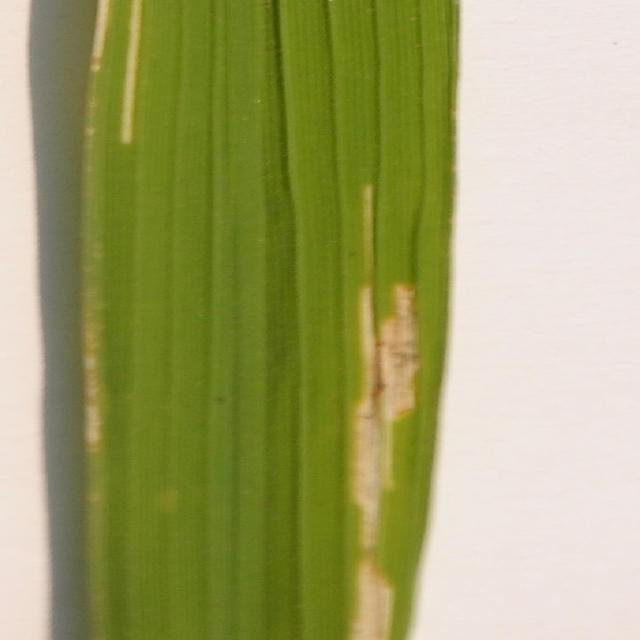Bacterial leaf blight: (333, 236, 436, 640), (79, 0, 154, 177), (80, 253, 116, 462)
